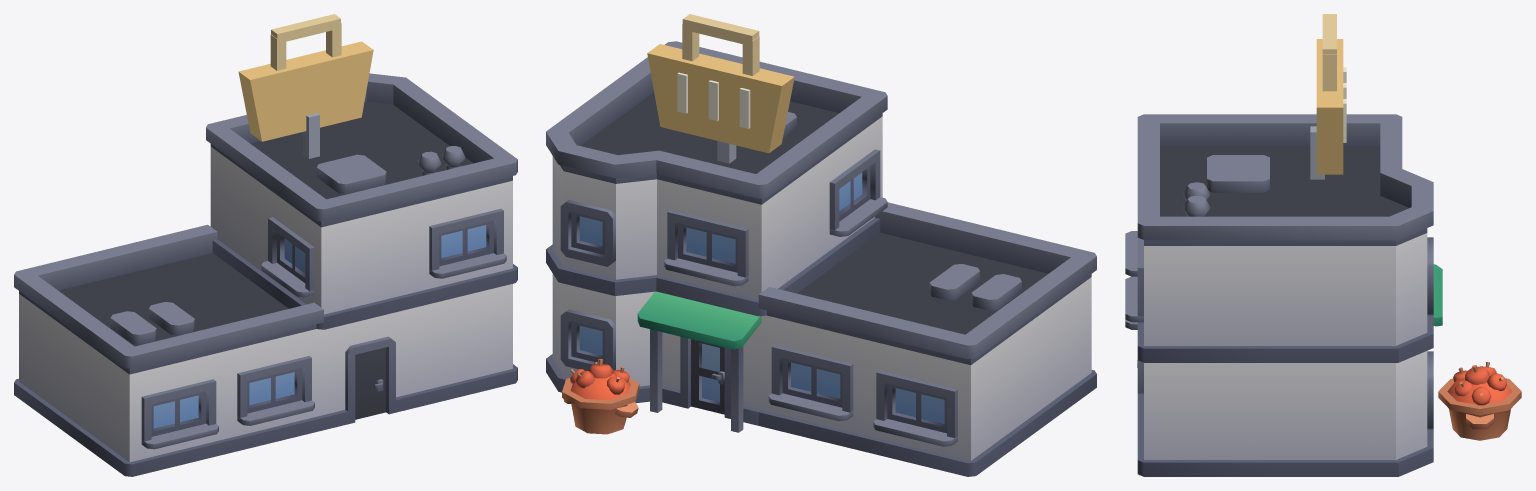
File: shop.glb
The picture shows the model from 3 angles, left to right: view 1: azimuth 30°, elevation 25°; view 2: azimuth 150°, elevation 25°; view 3: azimuth 270°, elevation 25°; orthographic projection. The views are drawn at different scales.
Parts seen in each view (by area): view 1: building-e, Project addition orange shopping basket, Project addition basket handle top, Project addition basket sign support; view 2: building-e, Project addition orange shopping basket, display-fruit, Project addition basket handle top, Project addition basket handle side; view 3: building-e, display-fruit, Project addition orange shopping basket, Project addition basket handle top, Project addition basket handle side, Project addition basket sign support.
Part boxes in pixels (x1,y1,x2,y2): building-e: (14,73,517,476); Project addition orange shopping basket: (238,41,373,141); Project addition basket handle top: (271,14,340,43); Project addition basket sign support: (302,113,319,158); building-e: (546,41,1096,476); Project addition orange shopping basket: (647,44,794,153); display-fruit: (562,359,639,434); Project addition basket handle top: (682,14,759,46); Project addition basket handle side: (742,36,759,75); building-e: (1125,114,1442,476); display-fruit: (1438,362,1521,440); Project addition orange shopping basket: (1316,39,1343,174); Project addition basket handle top: (1322,14,1336,54); Project addition basket handle side: (1322,54,1336,91); Project addition basket sign support: (1310,126,1324,179).
Size of the model in its own units: 4.26 by 3.4 by 3.28.
Materials: 6 (2 with a texture image).
